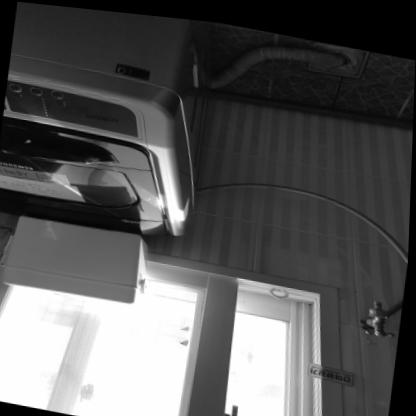DDL: (9, 212, 155, 311)
